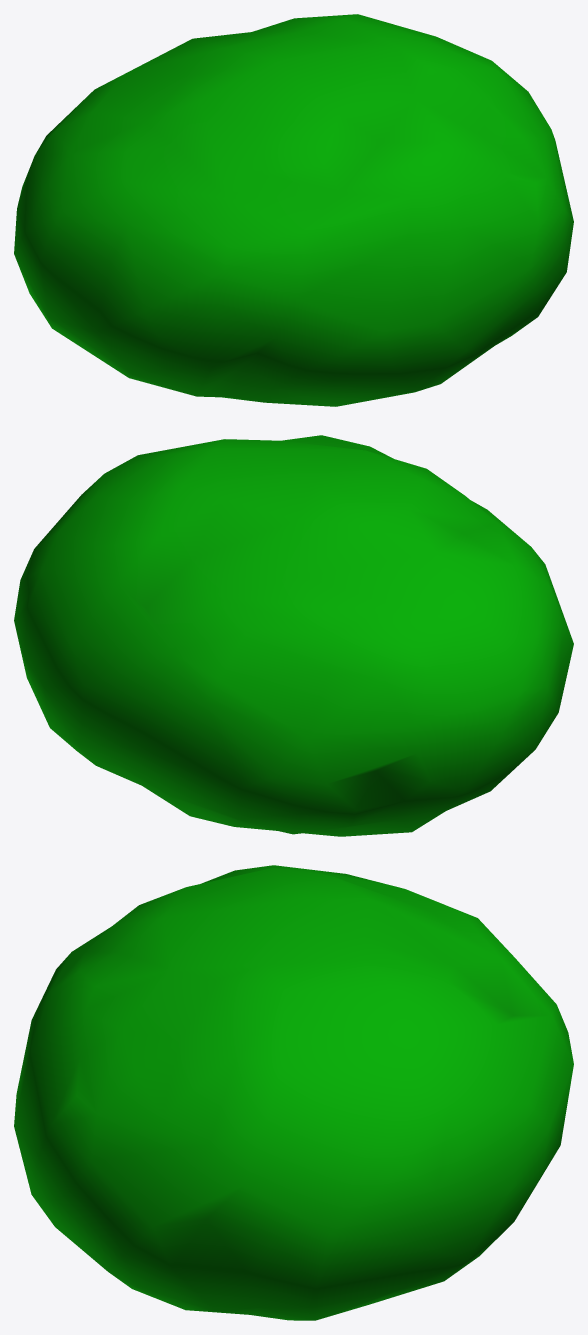
The model's file is rock_small_b.glb.
3 views of the same model, one above another, from view 1: azimuth 30°, elevation 25°; view 2: azimuth 150°, elevation 25°; view 3: azimuth 270°, elevation 25° (orthographic). The views are drawn at different scales.
Visible parts, largest first — view 1: LOD0; view 2: LOD0; view 3: LOD0.
Boxes of the visible parts, x1,y1,x2,y2 form: LOD0: (14, 14, 573, 406); LOD0: (14, 435, 573, 836); LOD0: (14, 865, 573, 1320).
Size of what is drawn, in the model's own units: 0.3772 by 0.2172 by 0.3249.
